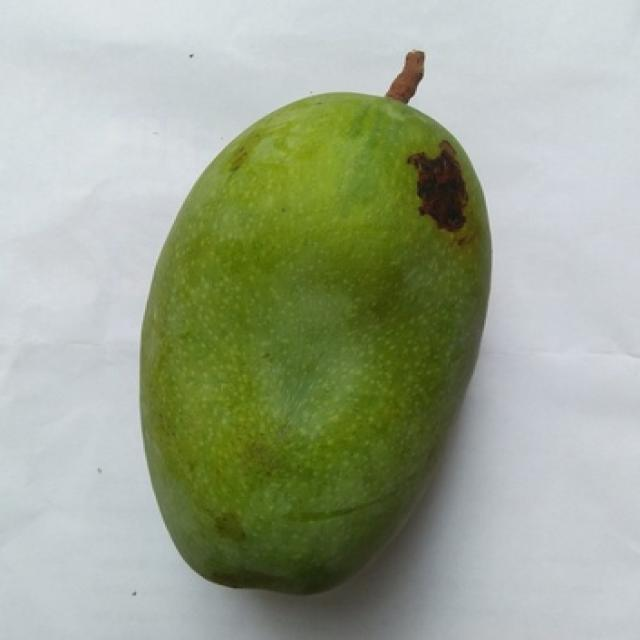Mango: (140, 94, 490, 592)
